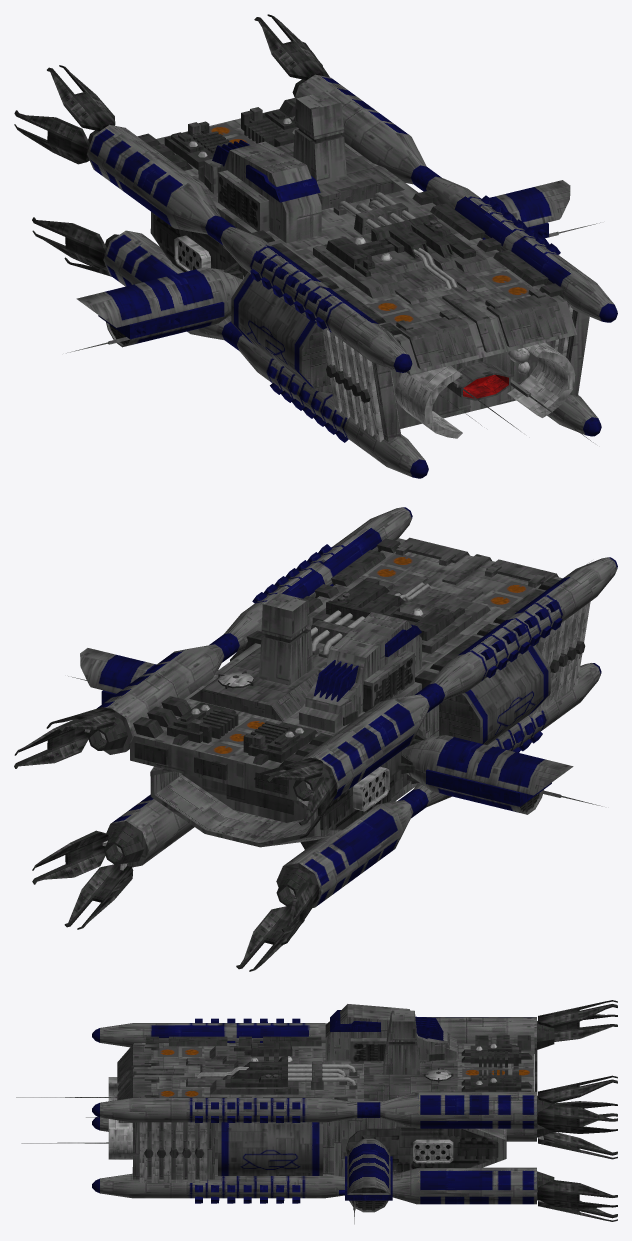
File: olympus_1779483351670.glb
The picture shows the model from 3 angles, top to bottom: view 1: azimuth 30°, elevation 25°; view 2: azimuth 150°, elevation 25°; view 3: azimuth 270°, elevation 25°; orthographic projection. The views are drawn at different scales.
Visible parts, largest first — view 1: olympus; view 2: olympus; view 3: olympus.
Boxes of the visible parts, x1,y1,x2,y2 form: olympus: (14,14,617,478); olympus: (14,507,617,971); olympus: (16,1000,617,1224).
Size of the model in its own units: 364 by 153 by 468.
Materials: 20 (20 with a texture image).
